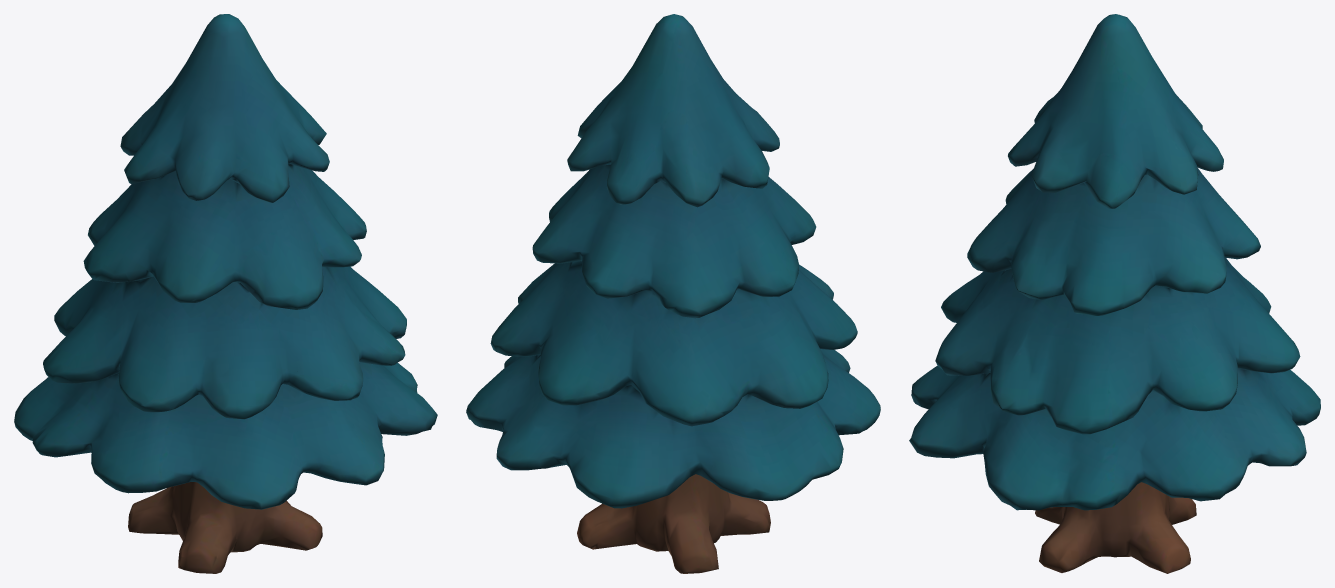
Rendered from pro_pine2-C5TZF787.glb.
3 views of the same model, side by side, from view 1: azimuth 30°, elevation 25°; view 2: azimuth 150°, elevation 25°; view 3: azimuth 270°, elevation 25° (orthographic).
Parts seen in each view (by area): view 1: tripo_node_47981f23-392c-4bfd-a48d-07878e15782d; view 2: tripo_node_47981f23-392c-4bfd-a48d-07878e15782d; view 3: tripo_node_47981f23-392c-4bfd-a48d-07878e15782d.
Part boxes in pixels (x1,y1,x2,y2): tripo_node_47981f23-392c-4bfd-a48d-07878e15782d: (14,14,437,573); tripo_node_47981f23-392c-4bfd-a48d-07878e15782d: (466,14,880,573); tripo_node_47981f23-392c-4bfd-a48d-07878e15782d: (909,14,1320,573).
Bounding box in the file's own units: 0.714 × 1 × 0.7105.
Materials: 1 (1 with a texture image).
